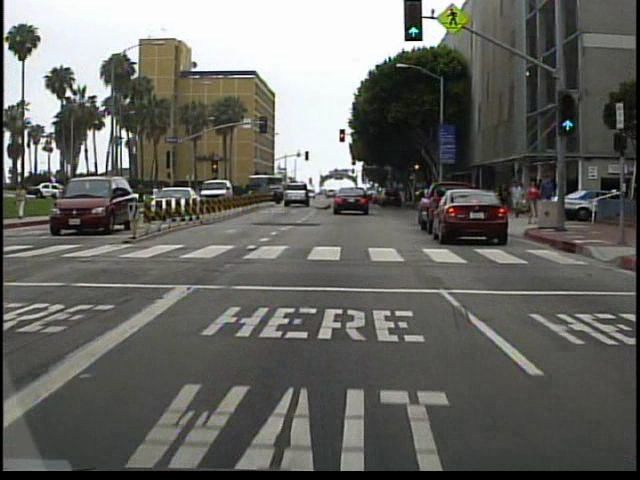person: (538, 173, 556, 224), (524, 181, 542, 224), (16, 180, 34, 220), (511, 179, 525, 222)
